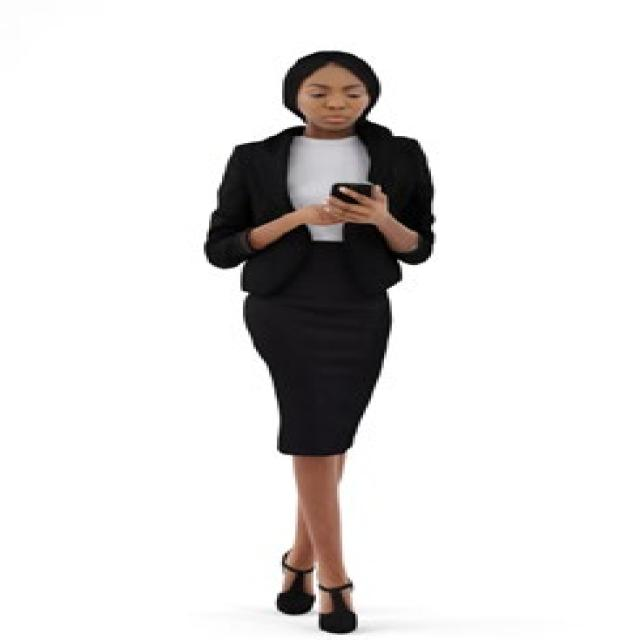standing: (205, 50, 447, 640)
